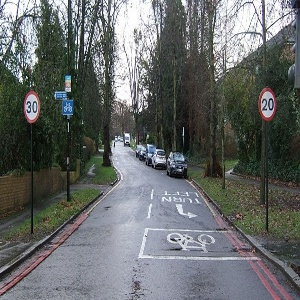20 speed: (258, 88, 276, 122)
30 speed: (23, 90, 40, 123)
